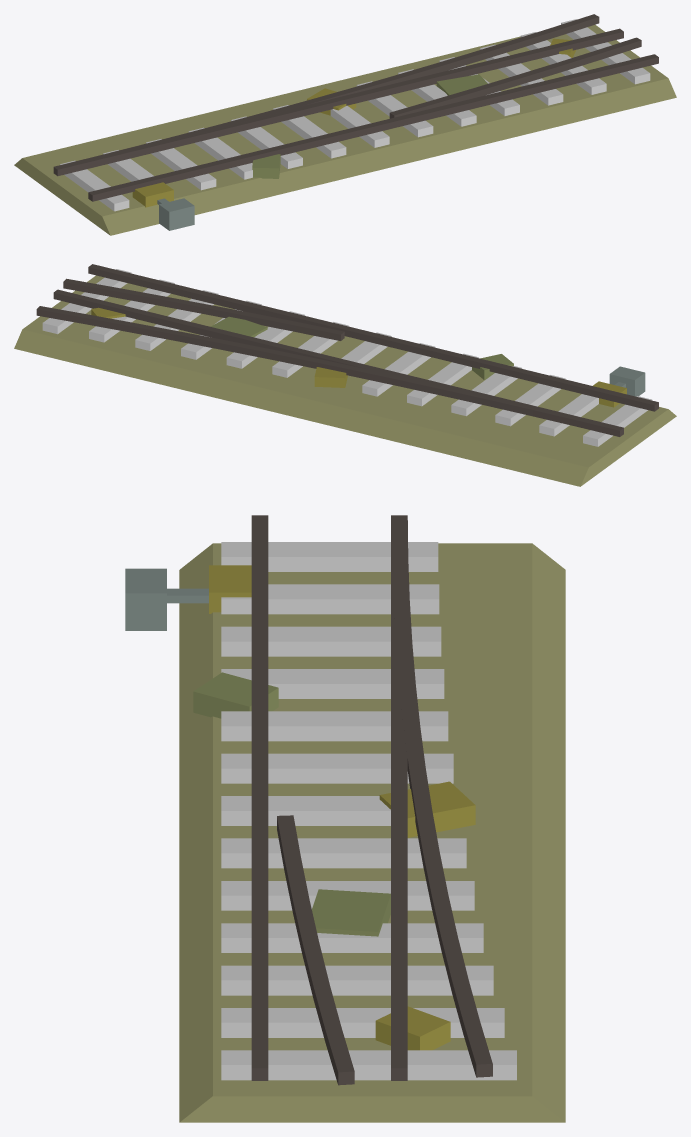
The model's file is SM_Via_DesvioIzq_v2_Maleza_LOD1.fbx.
3 renders of one model, top to bottom at view 1: azimuth 30°, elevation 25°; view 2: azimuth 150°, elevation 25°; view 3: azimuth 270°, elevation 25°, orthographic. The views are drawn at different scales.
Visible parts, largest first — view 1: SM_via_trazado_v27_LOD1; view 2: SM_via_trazado_v27_LOD1; view 3: SM_via_trazado_v27_LOD1.
Boxes of the visible parts, x1,y1,x2,y2 form: SM_via_trazado_v27_LOD1: [14, 14, 676, 235]; SM_via_trazado_v27_LOD1: [14, 264, 676, 486]; SM_via_trazado_v27_LOD1: [125, 515, 565, 1122].
Size of the model in its own units: 15.79 by 0.721 by 5.28.
